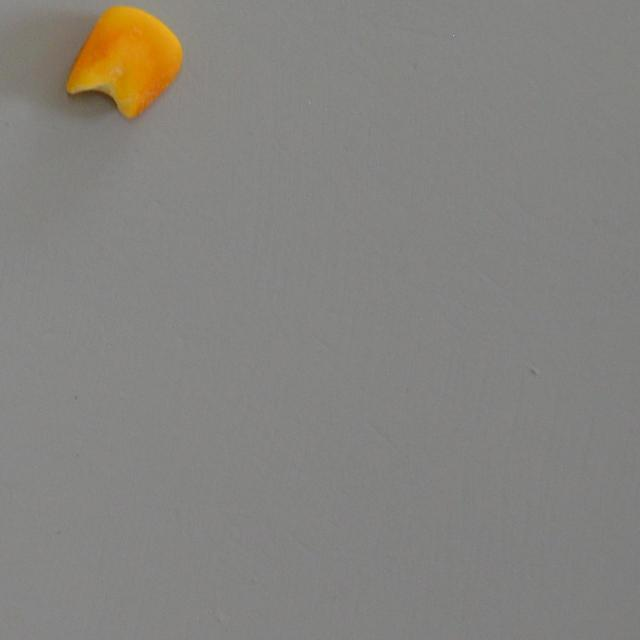dañado: (54, 0, 204, 128)
